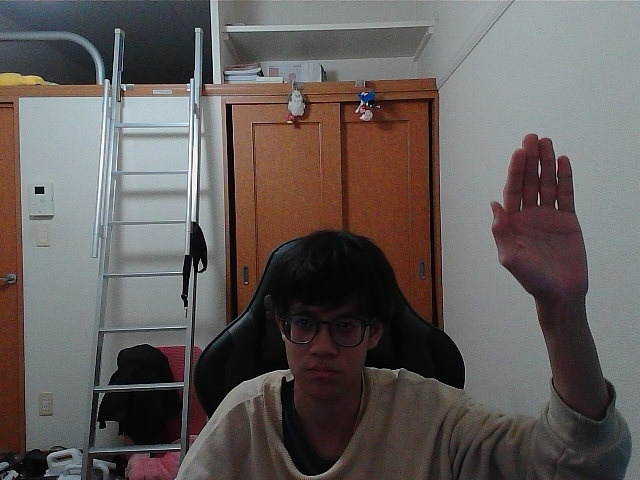open_palm: (499, 141, 568, 290)
